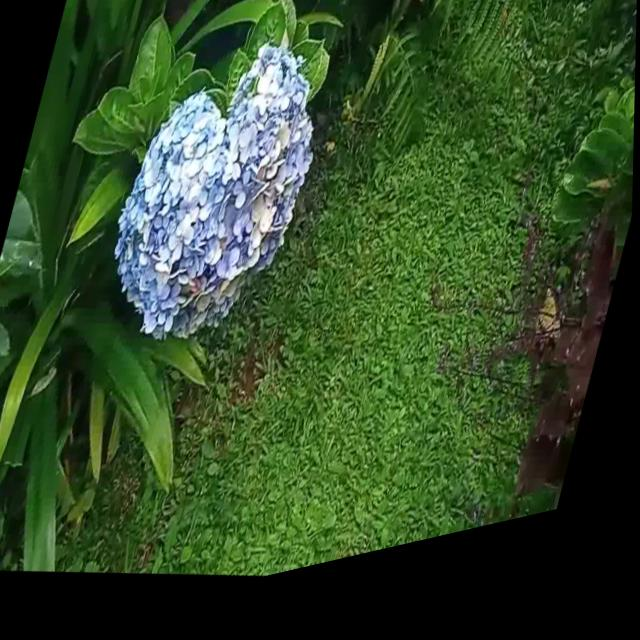Flower: (89, 6, 346, 389)
